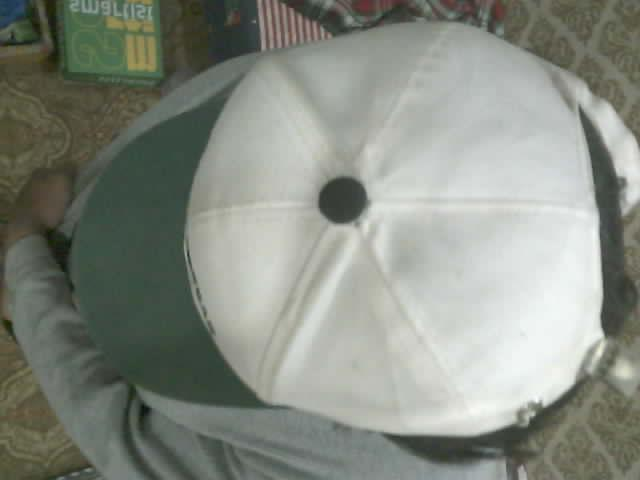cap: (65, 20, 639, 439)
